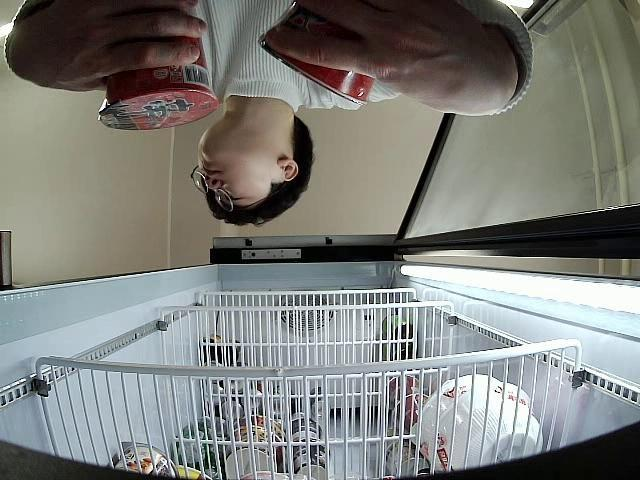02_shinRamen_S: (254, 3, 372, 106), (98, 34, 218, 130)
